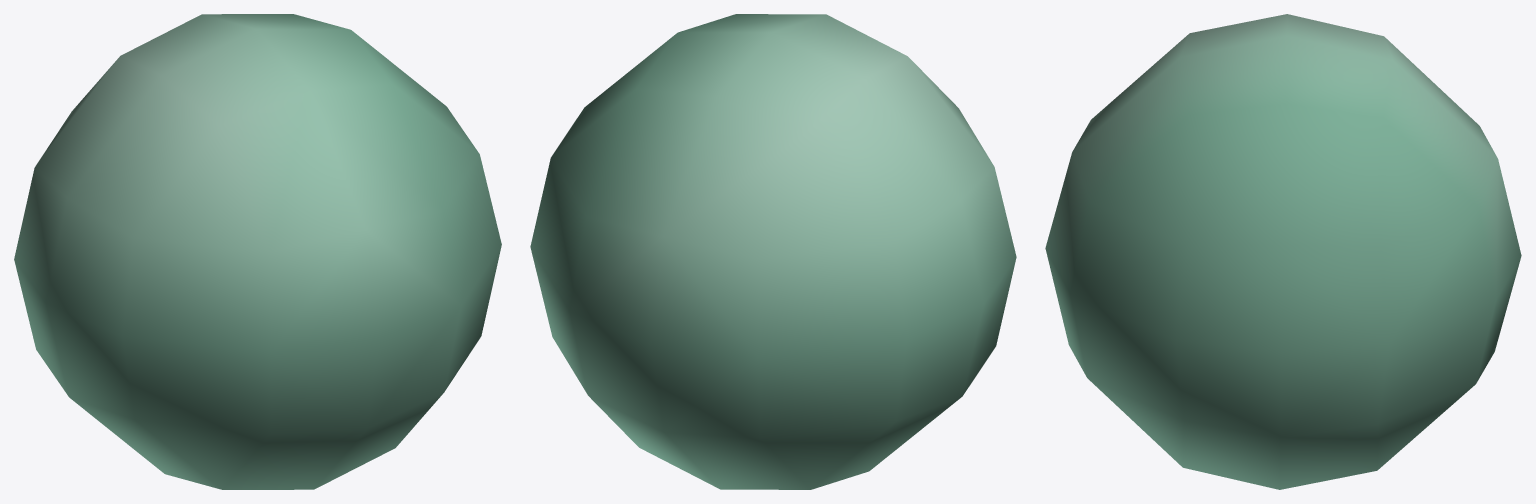
The model's file is gwib.hrc.gltf.
The picture shows the model from 3 angles, left to right: view 1: azimuth 30°, elevation 25°; view 2: azimuth 150°, elevation 25°; view 3: azimuth 270°, elevation 25°; orthographic projection. The views are drawn at different scales.
Visible parts, largest first — view 1: gwibBone0_null; view 2: gwibBone0_null; view 3: gwibBone0_null.
Part boxes in pixels (left/top/right/bottom): gwibBone0_null: left=14, top=14, right=501, bottom=489; gwibBone0_null: left=530, top=14, right=1016, bottom=489; gwibBone0_null: left=1045, top=14, right=1521, bottom=489.
Bounding box in the file's own units: 4.77 × 4.77 × 4.77.
